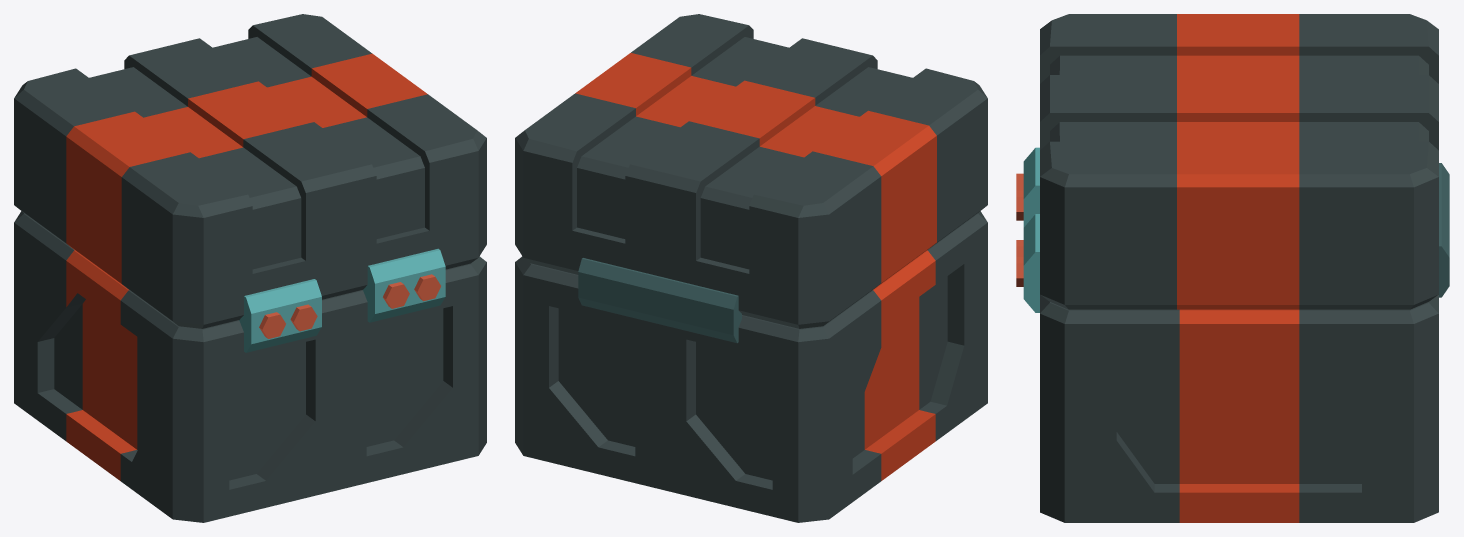
The model's file is TP_Sci-fi012.fbx.
The picture shows the model from 3 angles, left to right: view 1: azimuth 30°, elevation 25°; view 2: azimuth 150°, elevation 25°; view 3: azimuth 270°, elevation 25°; orthographic projection. The views are drawn at different scales.
Parts seen in each view (by area): view 1: TP_Sci_fi012; view 2: TP_Sci_fi012; view 3: TP_Sci_fi012.
Boxes of the visible parts, x1,y1,x2,y2 form: TP_Sci_fi012: (14,14,486,522); TP_Sci_fi012: (515,14,987,522); TP_Sci_fi012: (1016,14,1449,522).
Bounding box in the file's own units: 51.2 × 48.78 × 55.6.
Materials: 1 (1 with a texture image).
